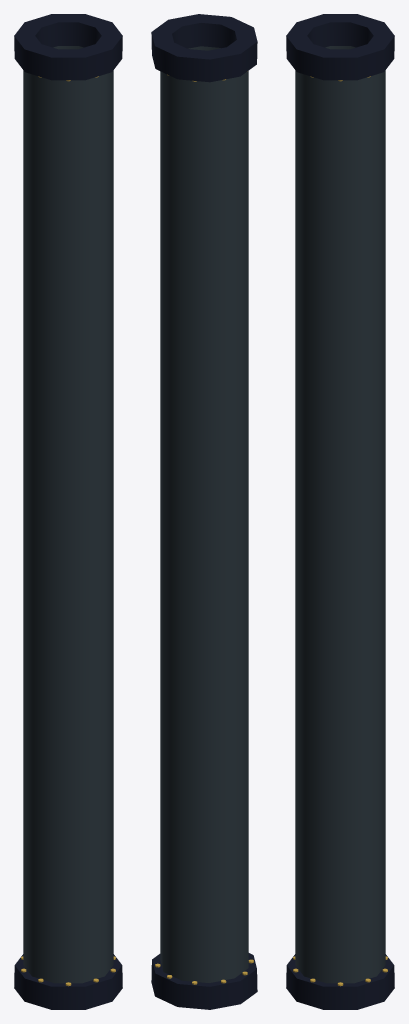
File: P_Straight_05.obj
The picture shows the model from 3 angles, left to right: view 1: azimuth 90°, elevation 25°; view 2: azimuth 150°, elevation 25°; view 3: azimuth 270°, elevation 25°; orthographic projection.
Visible parts, largest first — view 1: P_Straight_05_Rohr, P_Straight_05_Verbindung; view 2: P_Straight_05_Rohr, P_Straight_05_Verbindung; view 3: P_Straight_05_Rohr, P_Straight_05_Verbindung.
Boxes of the visible parts, <box> form: P_Straight_05_Rohr: <box>23,46,113,983</box>; P_Straight_05_Verbindung: <box>14,14,122,1009</box>; P_Straight_05_Rohr: <box>160,46,248,982</box>; P_Straight_05_Verbindung: <box>151,14,257,1009</box>; P_Straight_05_Rohr: <box>295,46,385,983</box>; P_Straight_05_Verbindung: <box>286,14,394,1009</box>.
Size of the model in its own units: 0.6204 by 6.31 by 0.6523.
